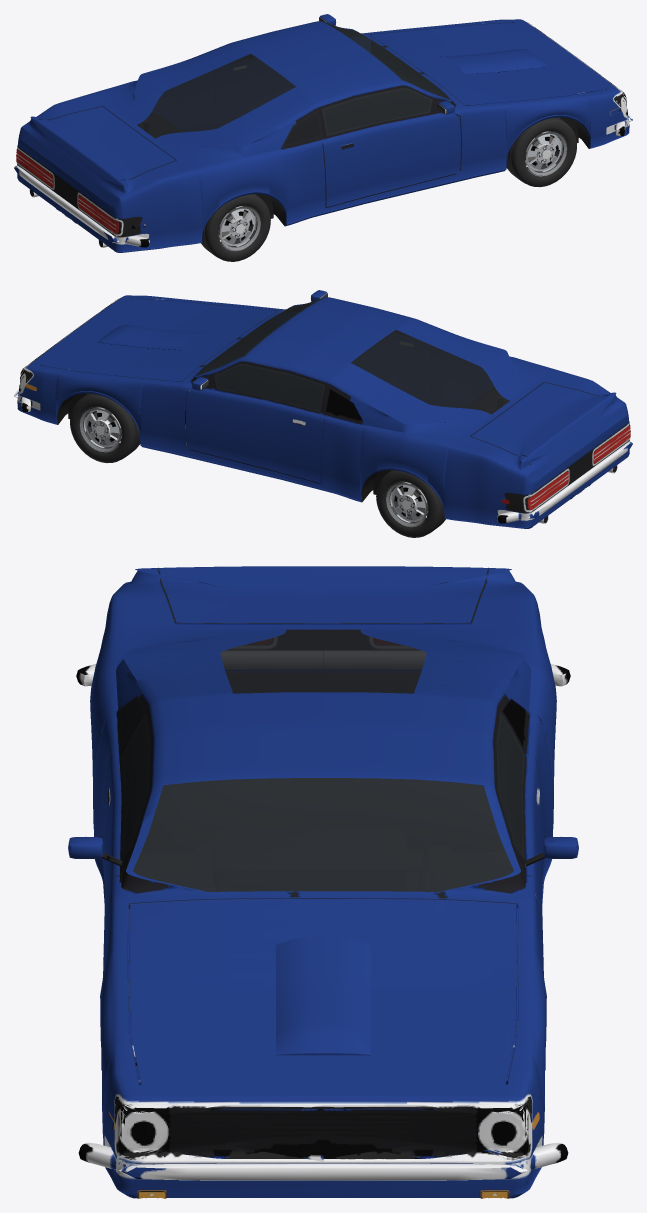
Rendered from muscle_baked.glb.
3 views of the same model, one above another, from view 1: azimuth 30°, elevation 25°; view 2: azimuth 150°, elevation 25°; view 3: azimuth 270°, elevation 25° (orthographic). The views are drawn at different scales.
Parts seen in each view (by area): view 1: body, hood, wheel_fr, wheel_rr, lamp_tail, bay; view 2: body, hood, wheel_fl, wheel_rl, lamp_tail, bay; view 3: body, hood.
Boxes of the visible parts, box(x1,y1,x2,y2) form: body: box(14, 14, 632, 252); hood: box(368, 21, 614, 105); wheel_fr: box(506, 117, 576, 187); wheel_rr: box(201, 194, 270, 261); lamp_tail: box(16, 149, 145, 233); bay: box(371, 41, 448, 98); body: box(14, 290, 632, 528); hood: box(32, 297, 278, 381); wheel_fl: box(70, 393, 140, 463); wheel_rl: box(376, 470, 445, 537); lamp_tail: box(501, 425, 630, 509); bay: box(198, 317, 275, 374); body: box(68, 566, 578, 1198); hood: box(128, 897, 518, 1095).
Size of the model in its own units: 5.06 by 1.25 by 2.15.
Materials: 15 (5 with a texture image).
